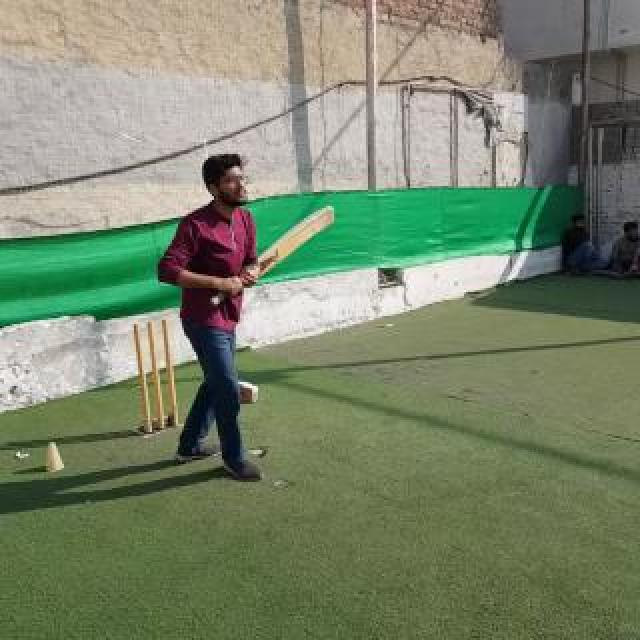bat: (210, 204, 336, 306)
